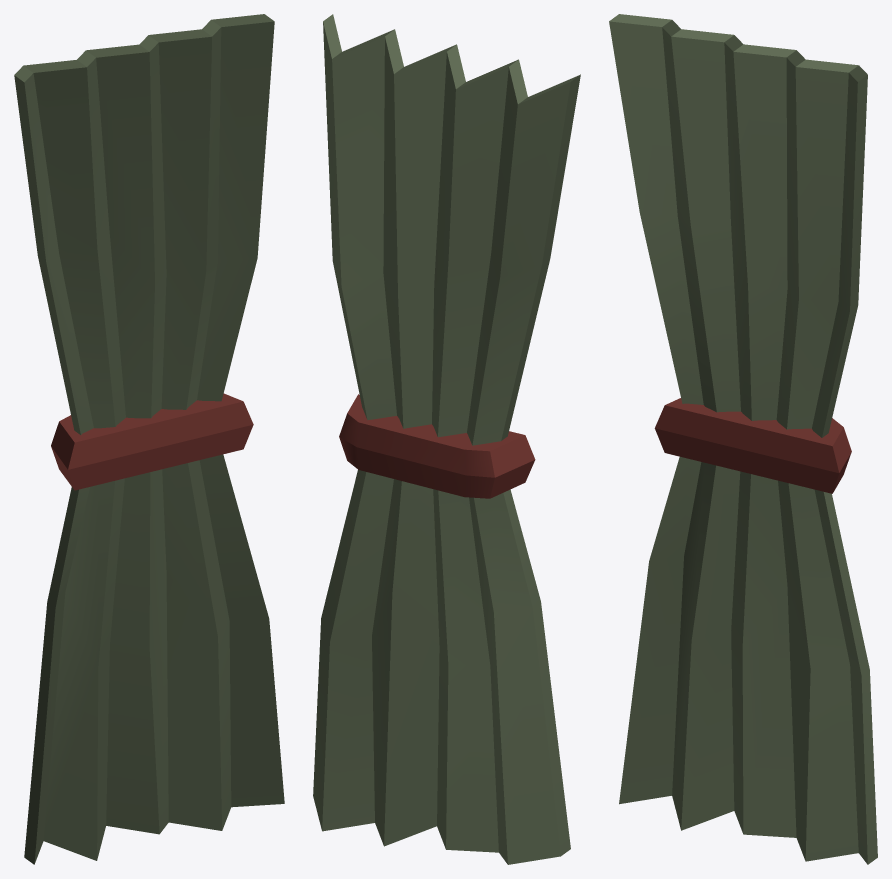
The model's file is SM_Prop_Curtain_01.fbx.
3 views of the same model, side by side, from view 1: azimuth 30°, elevation 25°; view 2: azimuth 150°, elevation 25°; view 3: azimuth 330°, elevation 25° (orthographic).
Visible parts, largest first — view 1: SM_Prop_Curtain_01; view 2: SM_Prop_Curtain_01; view 3: SM_Prop_Curtain_01.
Part boxes in pixels (x1,y1,x2,y2): SM_Prop_Curtain_01: [14, 14, 284, 864]; SM_Prop_Curtain_01: [313, 14, 580, 864]; SM_Prop_Curtain_01: [609, 14, 877, 864].
Size of the model in its own units: 69.65 by 204 by 16.22.
